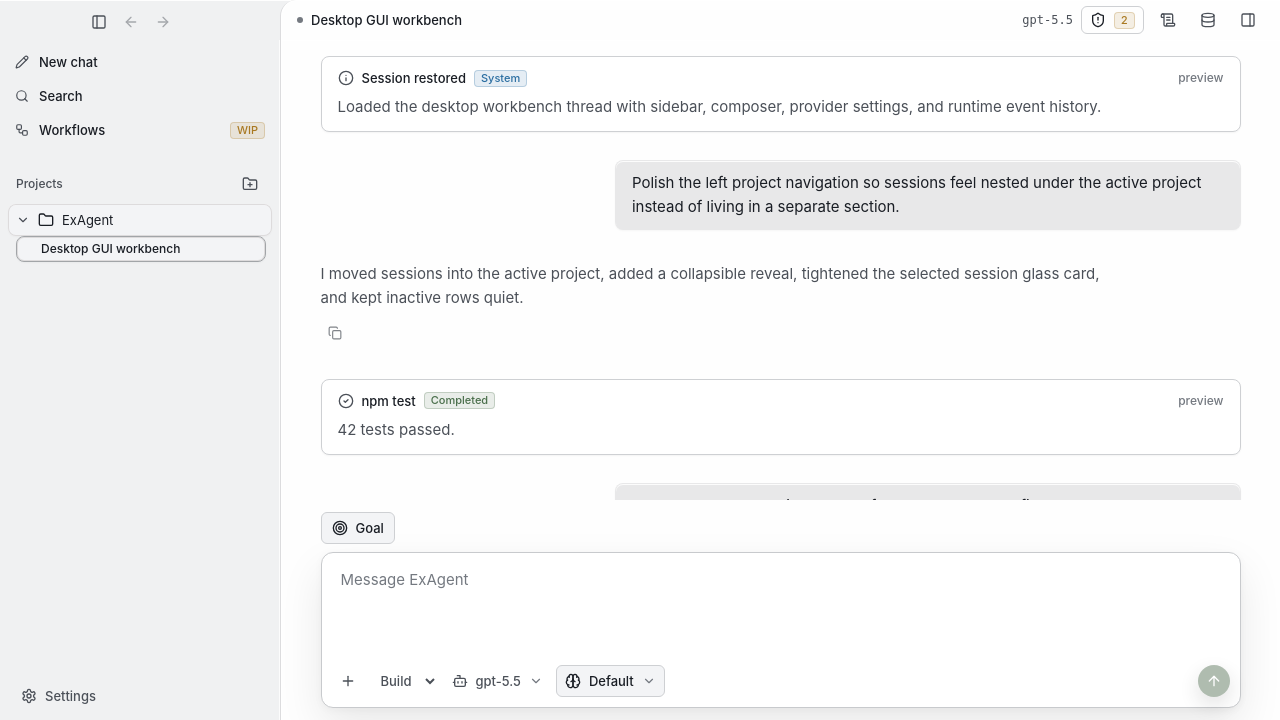
Test: AppShell › opens the event log from the window chrome
Expected: the text "Session restored" is shown, [362,69,466,87]
Click the button named "Open event log".
click(1168, 20)  # box [1152,4,1184,36]
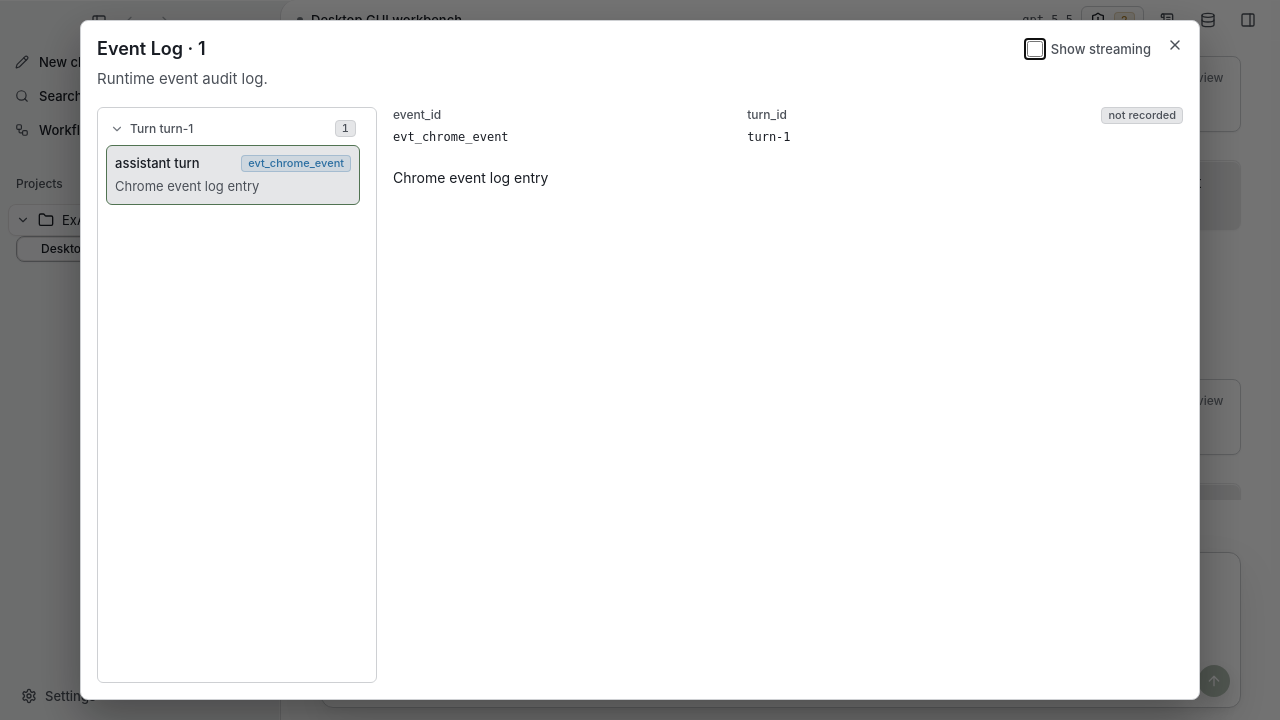
Expected: the heading "Event Log · 1" is shown, [97,37,206,61]
Expected: the text "Chrome event log entry" below "Turn turn-1" is shown, [115,178,259,194]
